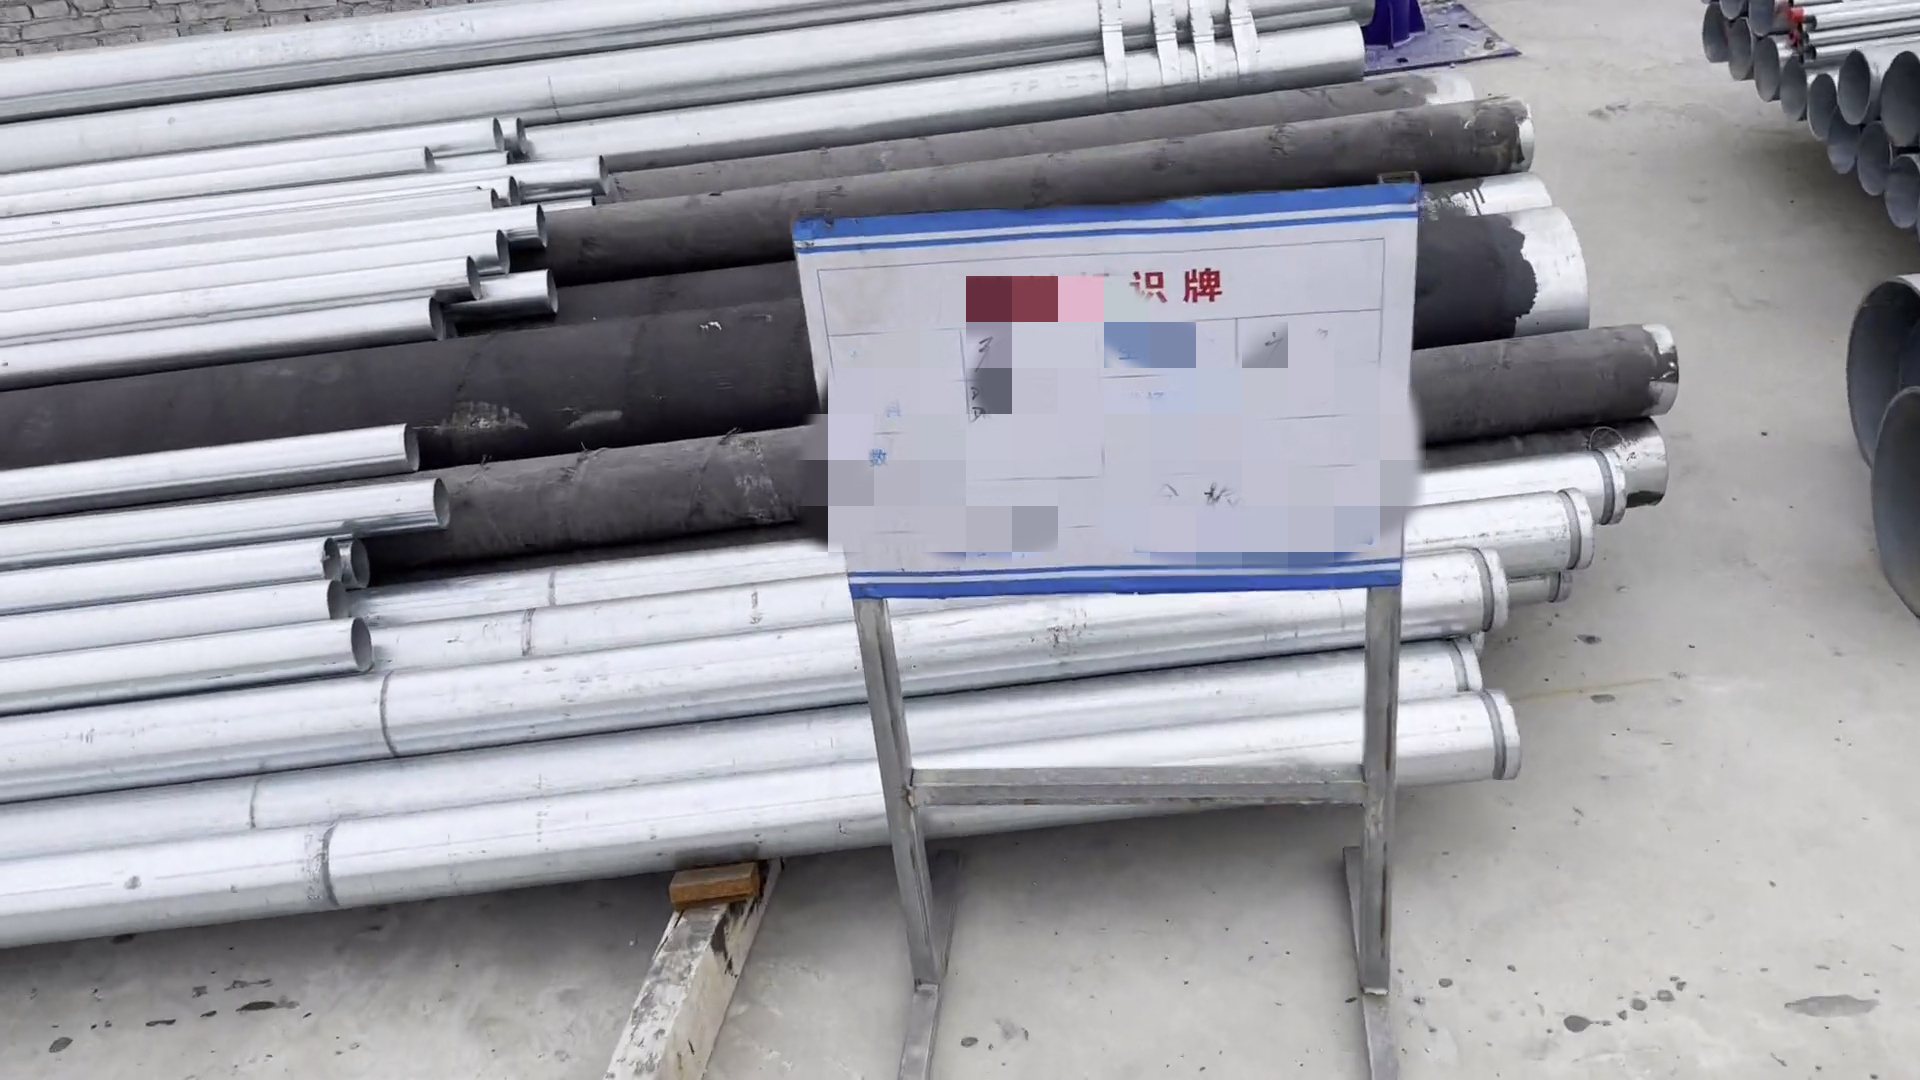brick: (1, 1, 378, 55)
slogan: (783, 161, 1456, 618)
